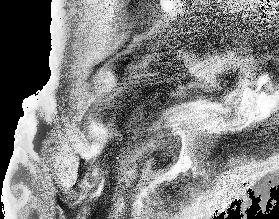CE: (3, 182, 31, 207)
